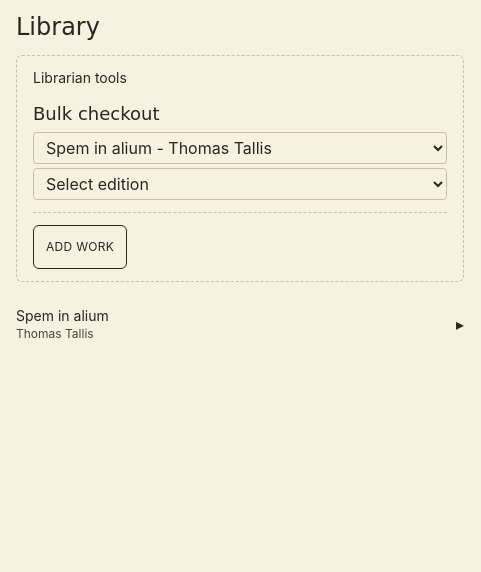
Test: #73 — librarian return › a return button is visible on an active lending for a librarian
The width and height of the screenshot is (481, 572).
Expected: the list item with test id "library-work-work-1" is shown, [16,298,464,350]
Click the button with test id "library-work-toggle-work-1".
click(62, 316)  # box [16,306,464,342]
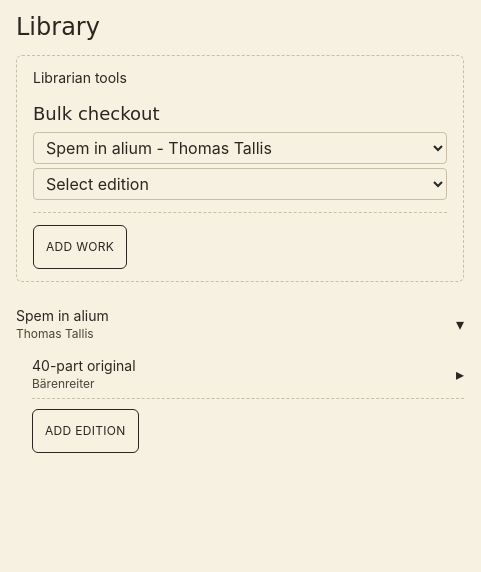
Expected: the element with test id "library-edition-edition-1" is shown, [32,350,464,399]
Click the button with test id "library-edition-toggle-edition-1".
click(84, 366)  # box [32,356,464,392]
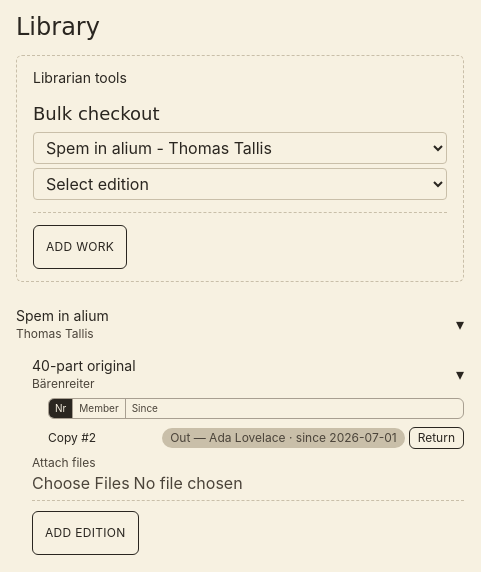
Expected: the button with test id "library-return-copy-2" is shown, [409,427,464,449]
